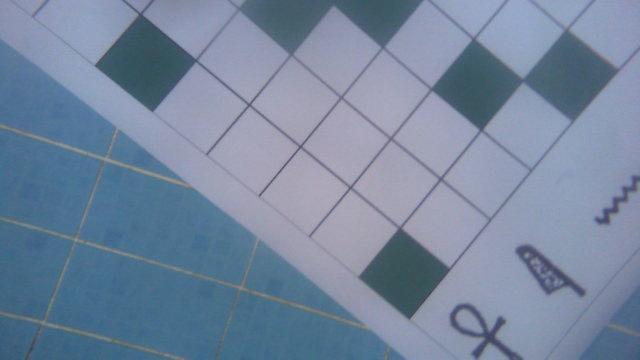Ankh: (446, 301, 531, 360)
Reed: (511, 243, 589, 299)
Water: (593, 171, 640, 227)
